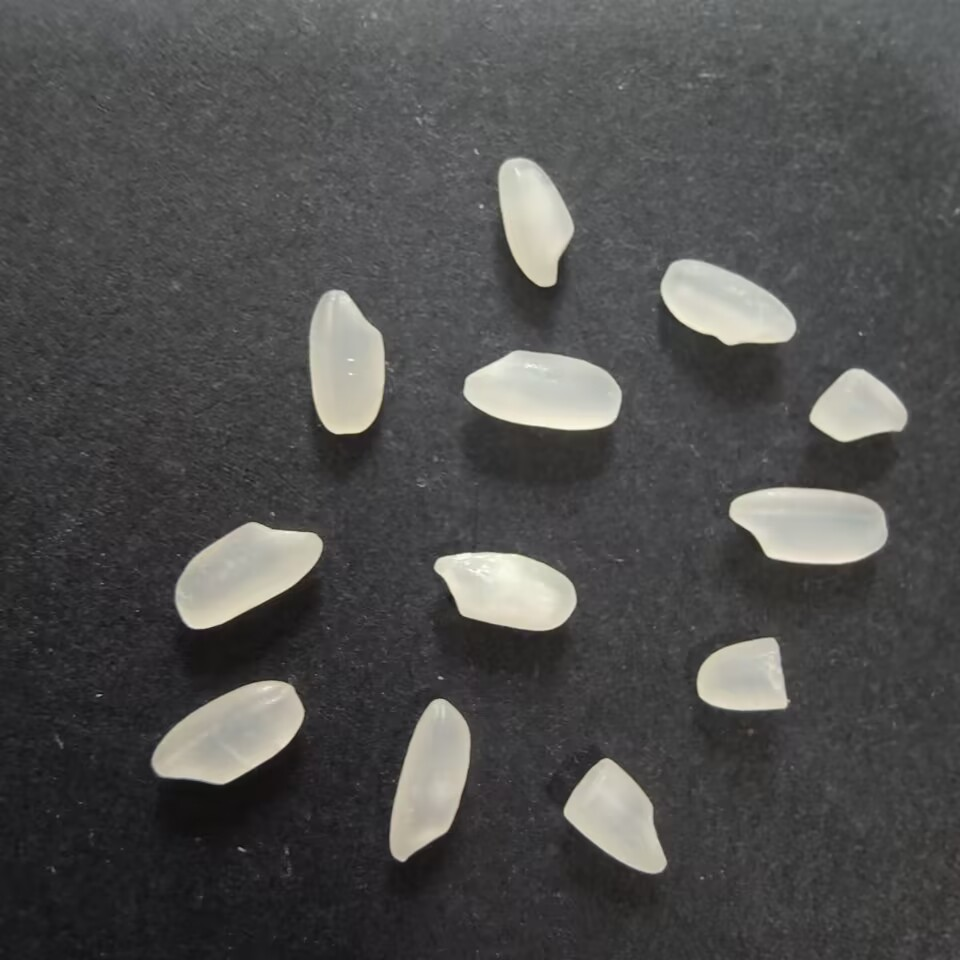broken: (557, 752, 673, 877), (802, 364, 916, 453), (684, 633, 795, 718)
rice: (144, 674, 310, 792), (167, 516, 327, 636), (384, 694, 476, 864), (454, 345, 625, 435), (722, 483, 893, 568), (425, 544, 581, 636), (305, 282, 390, 444), (658, 256, 798, 347), (495, 149, 581, 291)
